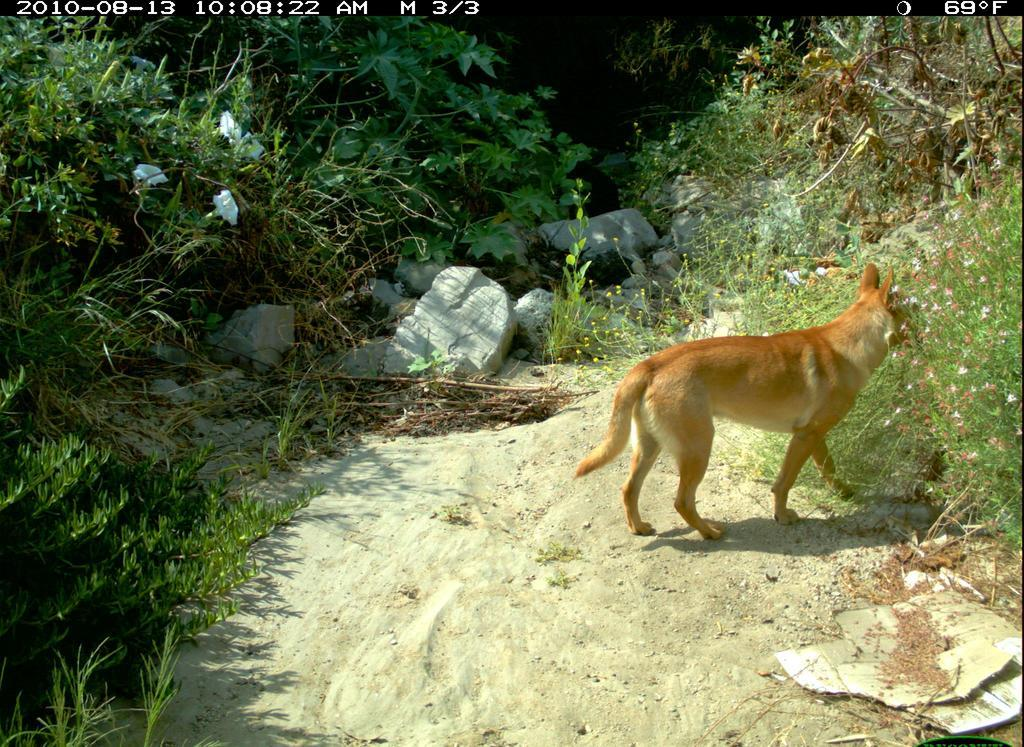dog: (563, 249, 934, 548)
